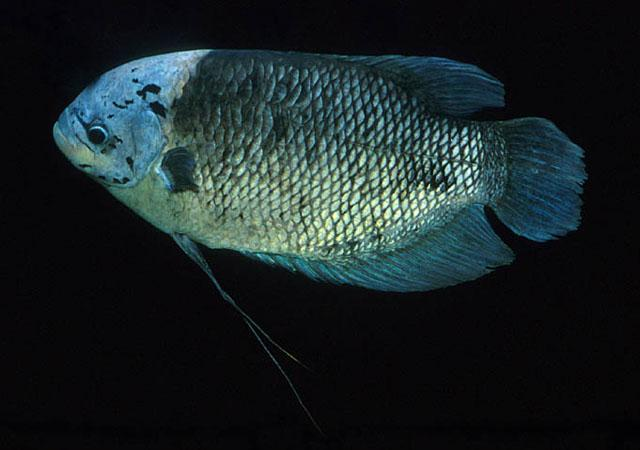Mulut: (32, 87, 100, 175)
Sirip Dada: (144, 126, 208, 214)
Sirip Ekor: (476, 100, 600, 258)
Sirip Punggung: (288, 30, 526, 128)
